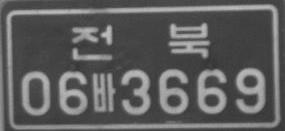0: (20, 69, 50, 116)
3: (120, 68, 151, 115)
6: (157, 68, 190, 114), (196, 68, 228, 114), (58, 69, 88, 115)
9: (235, 67, 267, 114)
바: (91, 72, 116, 112)
전북_D: (70, 22, 211, 60)
